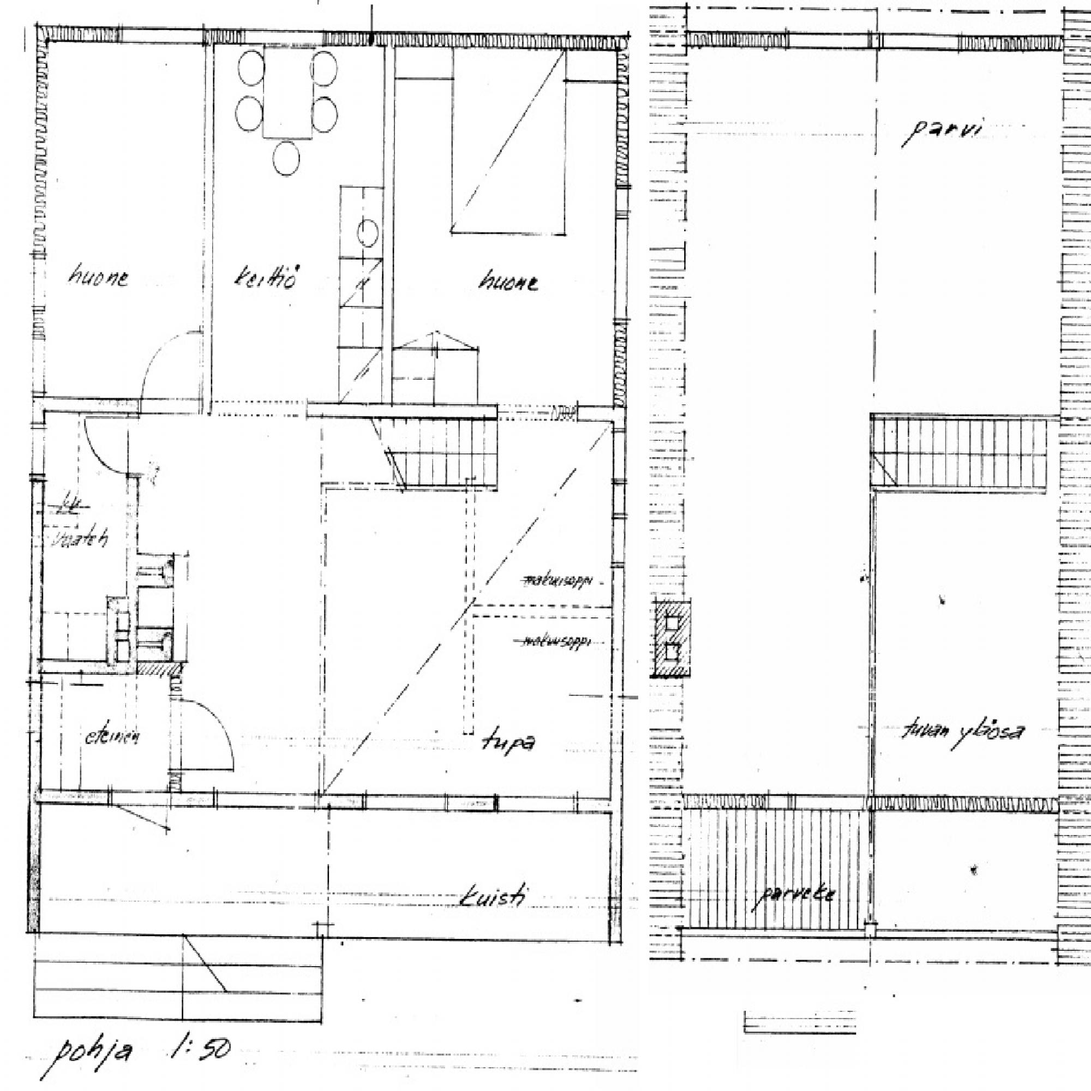wall: (619, 36, 630, 812), (30, 36, 630, 50), (30, 798, 630, 812), (31, 36, 41, 812), (306, 404, 630, 418), (204, 36, 215, 417), (384, 36, 395, 417), (31, 404, 214, 418), (105, 597, 138, 664), (127, 404, 138, 597), (31, 663, 182, 677), (172, 664, 182, 812), (619, 812, 630, 933), (31, 812, 41, 933)
